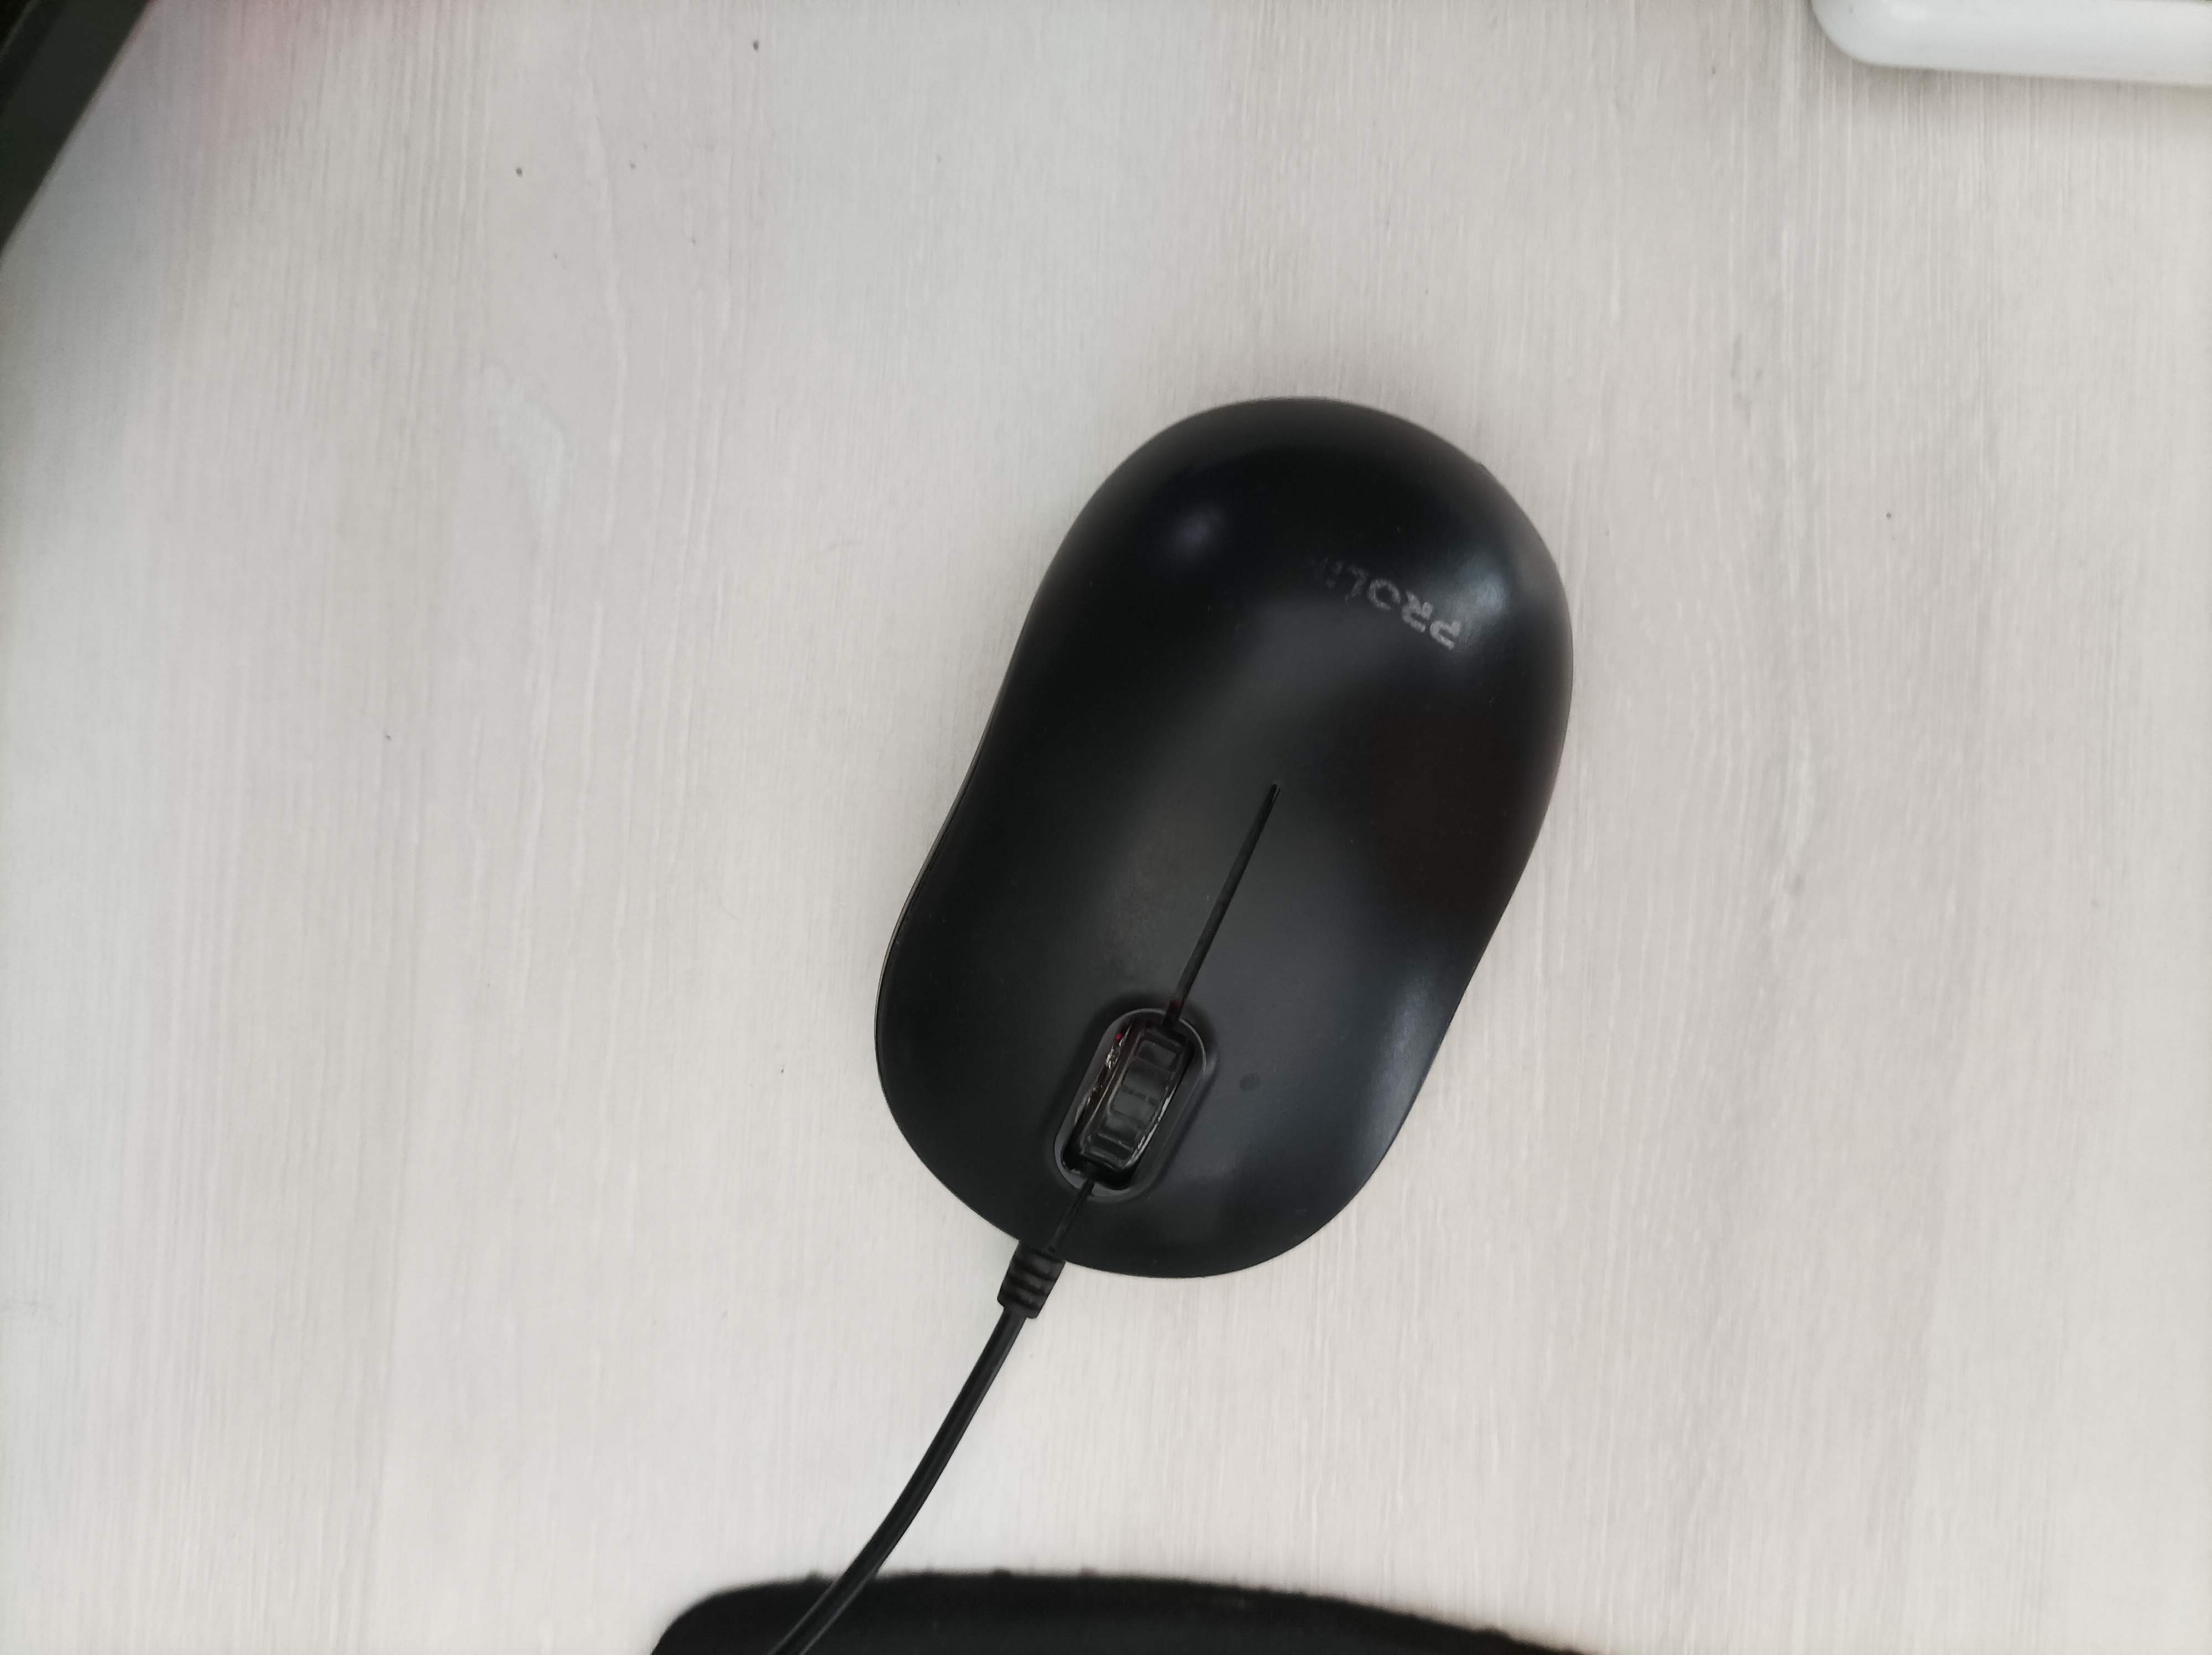mouse: (862, 377, 1590, 1318)
